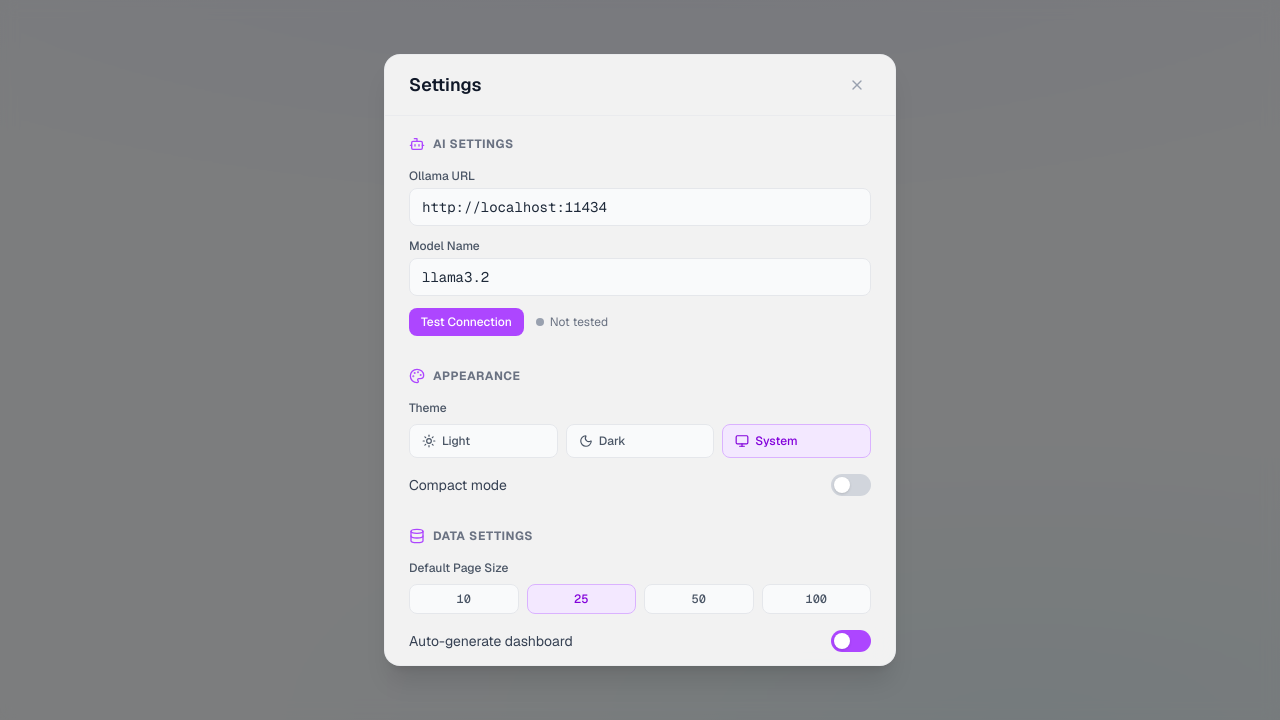
SettingsPanel › tests the Ollama connection and shows the connected state
The image size is (1280, 720).
Click the button "Test Connection".
click(466, 322)  # box [409, 308, 524, 336]
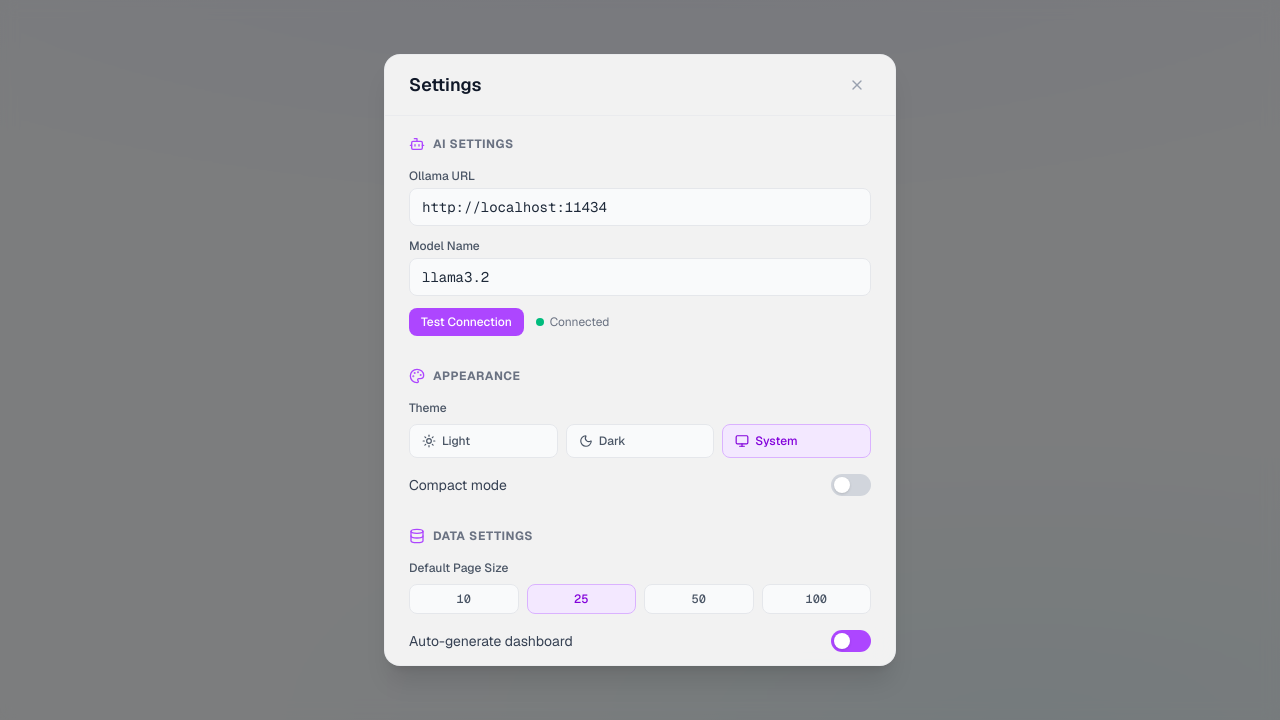
Result: the text "Connected" is shown at [550, 314, 609, 330]
